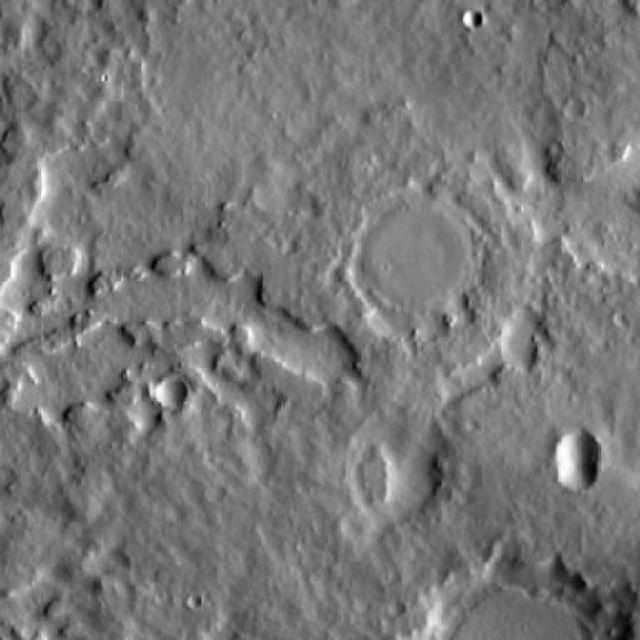crater: (343, 188, 489, 329), (552, 429, 598, 473), (555, 452, 596, 492), (152, 379, 186, 413), (462, 9, 481, 28)
